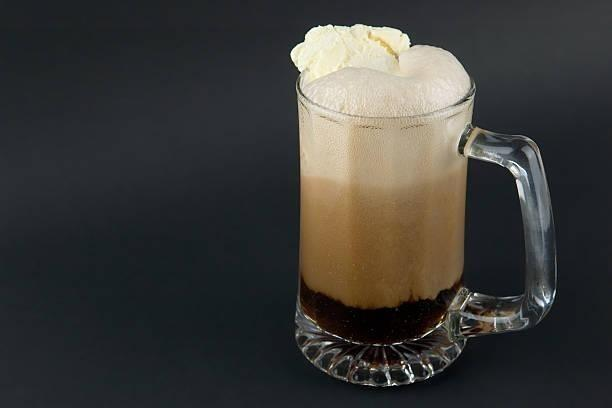glass-mug: (289, 34, 561, 392)
